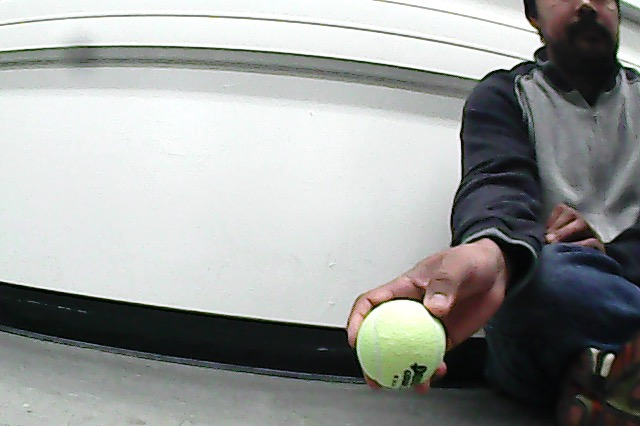ball: (352, 293, 451, 394)
